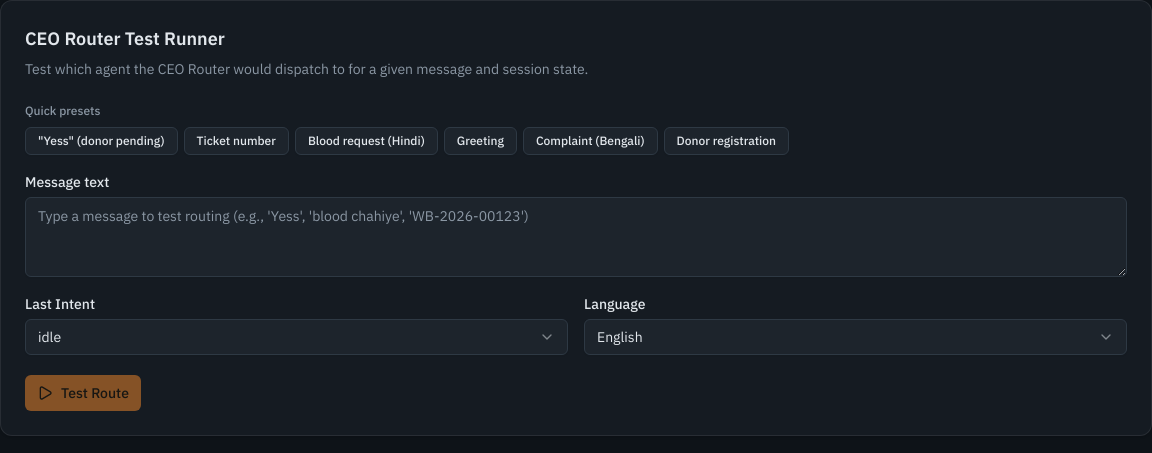
CEORouterTester › applies a preset to the message textarea
The image size is (1152, 453).
Click the button "Ticket number" at (236, 141), box left=184, top=127, right=289, bottom=155
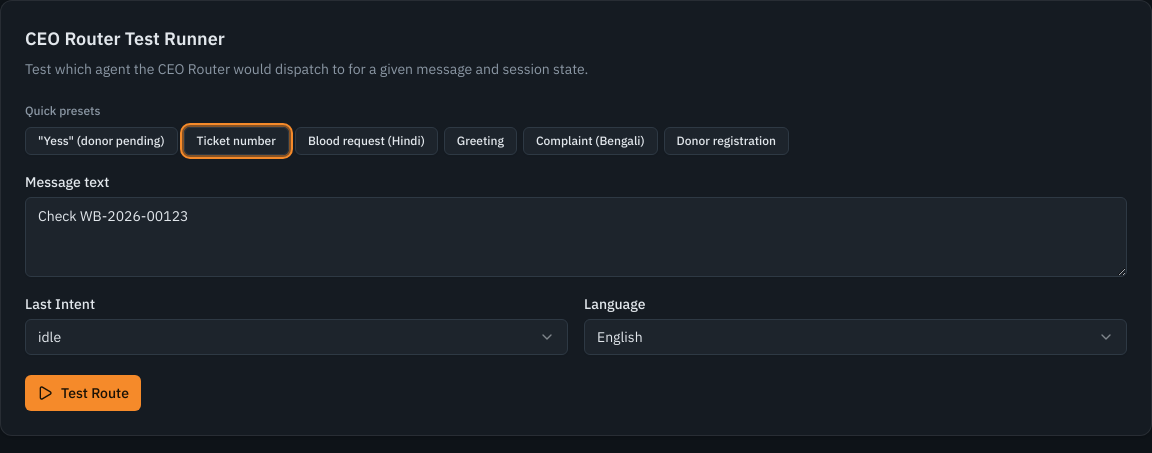
Expected: the text box labelled "Message text" holds "Check WB-2026-00123", left=25, top=197, right=1127, bottom=277
